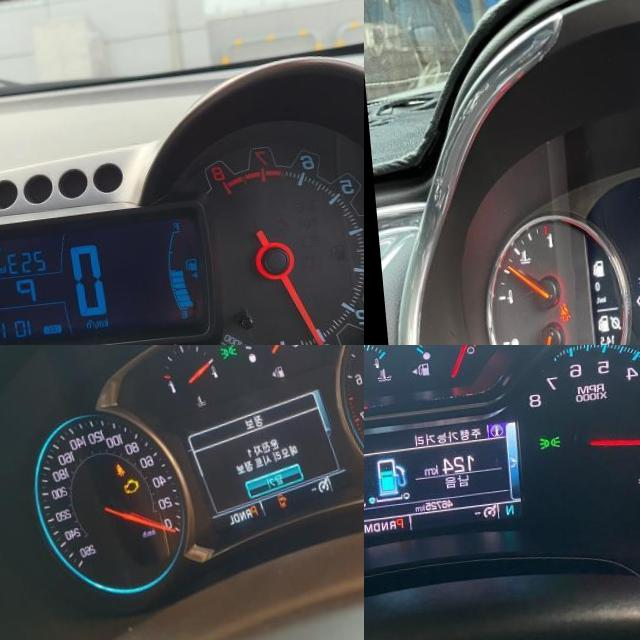Doors: (270, 500, 281, 515)
SideLamp: (214, 348, 235, 367), (534, 446, 555, 461)
